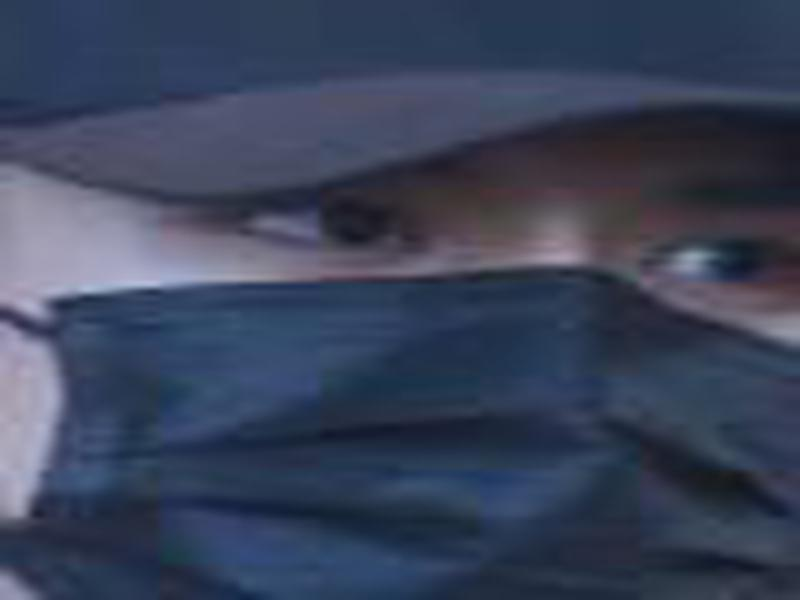with_mask: (1, 101, 791, 594)
